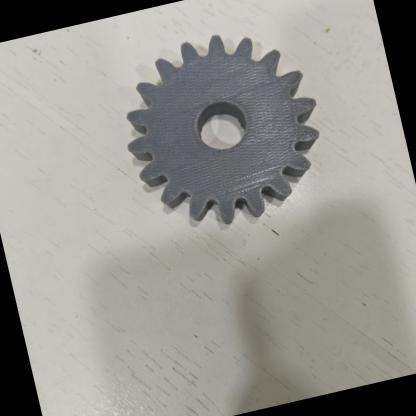gear: (94, 11, 347, 254)
